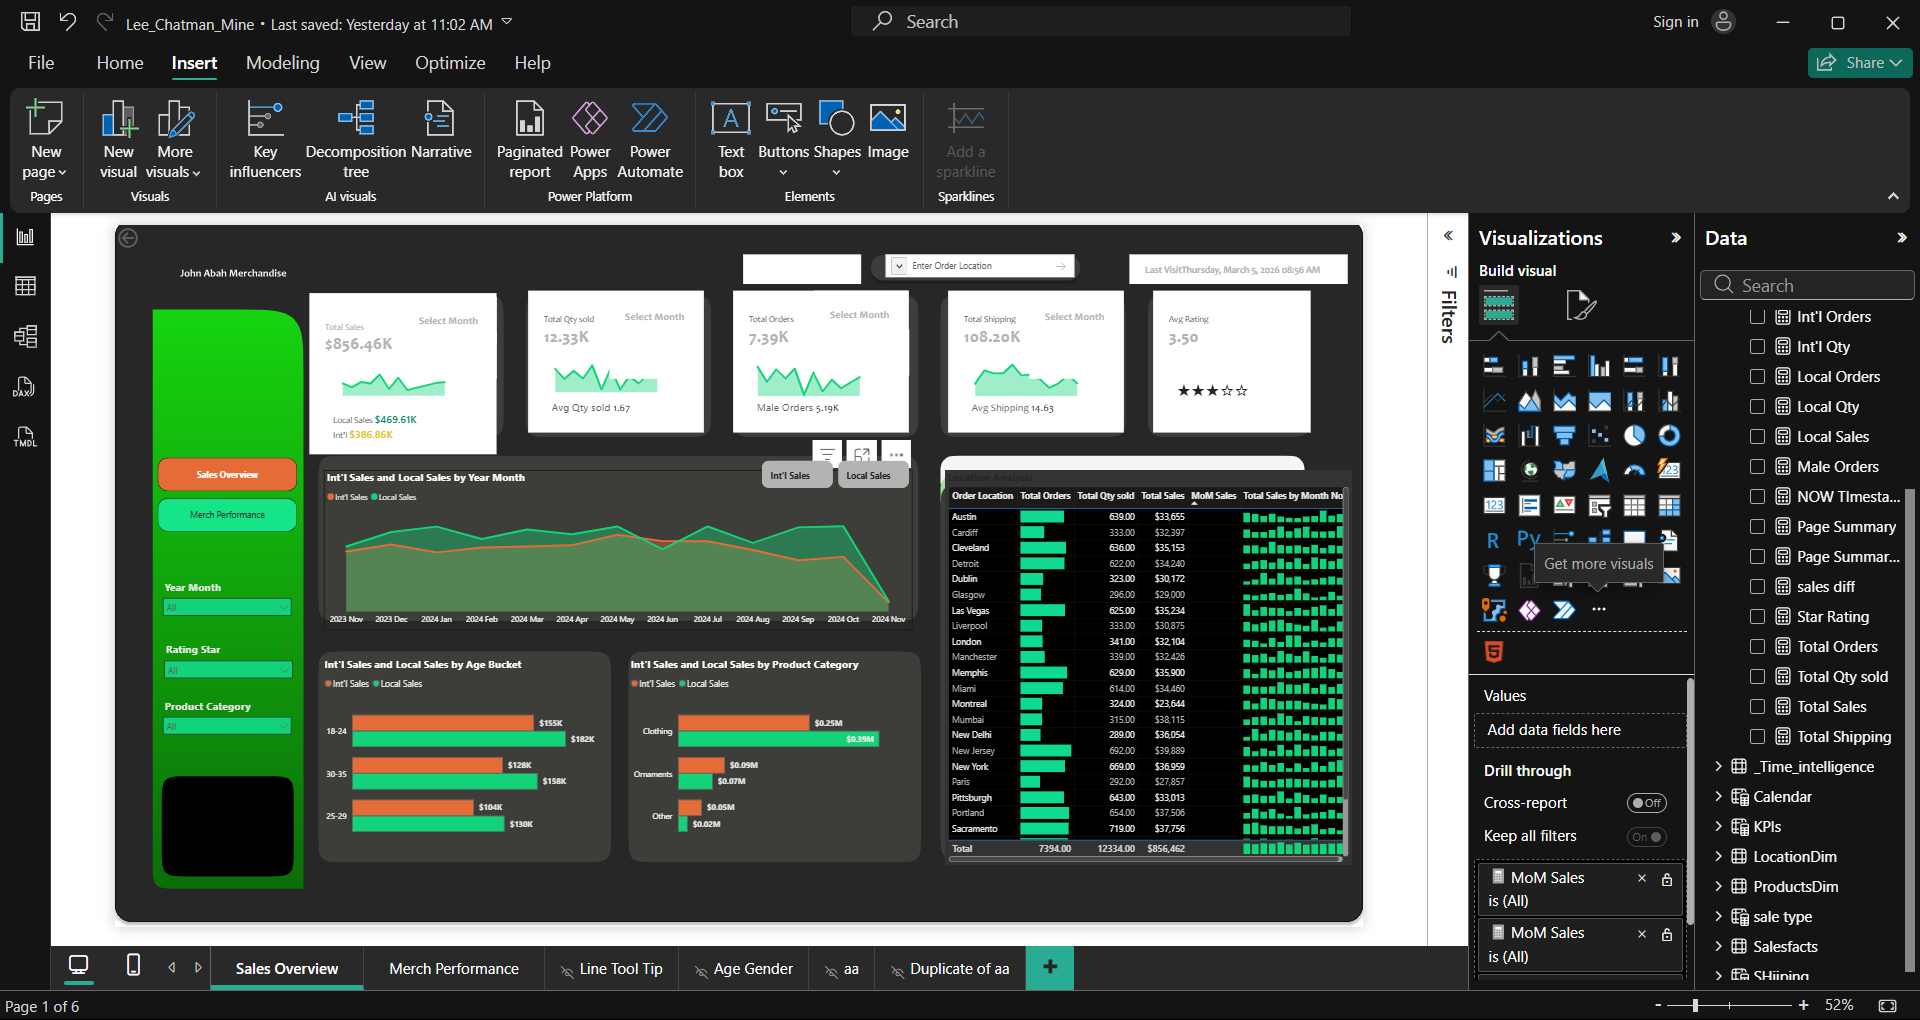

What the dashboard file says about the page in this screenshot:
{"tool":"powerbi","page":{"name":"Sales Overview","canvas":[1920,1080],"ordinal":0},"visuals":[{"type":"areaChart","fields":{"Y":["_Analysis.Int'l","_Analysis.Local Sales"],"Category":["Calendar.Year Month"]},"box":[322,376,904,248],"z":0},{"type":"cardVisual","fields":{"Data":["_Analysis.Total Sales"]},"box":[294,100,298,258],"z":1000},{"type":"cardVisual","fields":{"Data":["_Analysis.Total Qty sold"]},"box":[630,96,280,228],"z":2000},{"type":"cardVisual","fields":{"Data":["_Analysis.Total Orders"]},"box":[946,96,280,228],"z":3000},{"type":"cardVisual","fields":{"Data":["_Analysis.Total Shipping"]},"box":[1276,96,280,228],"z":4000},{"type":"cardVisual","fields":{"Data":["_Analysis.Avg Rating"]},"box":[1592,96,252,228],"z":5000},{"type":"areaChart","fields":{"Category":["Calendar.Month No"],"Y":["_Analysis.Total Sales"]},"box":[322,202,244,66],"z":6000},{"type":"areaChart","fields":{"Category":["Calendar.Month No"],"Y":["_Analysis.Total Qty sold"]},"box":[648,186,244,76],"z":7000},{"type":"areaChart","fields":{"Category":["Calendar.Month No"],"Y":["_Analysis.Total Orders"]},"box":[960,192,244,76],"z":8000},{"type":"areaChart","fields":{"Category":["Calendar.Month No"],"Y":["_Analysis.Total Shipping"]},"box":[1294,192,244,76],"z":9000},{"type":"cardVisual","fields":{"Data":["_Analysis.Dynamic Month Text"]},"box":[438,106,154,80],"z":10000},{"type":"cardVisual","fields":{"Data":["_Analysis.Dynamic Month Text"]},"box":[756,100,154,80],"z":11000},{"type":"cardVisual","fields":{"Data":["_Analysis.Dynamic Month Text"]},"box":[1072,96,154,80],"z":12000},{"type":"cardVisual","fields":{"Data":["_Analysis.Dynamic Month Text"]},"box":[1402,100,154,80],"z":13000},{"type":"cardVisual","fields":{"Data":["_Time_intelligence.MoM Sales"]},"box":[438,162,154,80],"z":14000},{"type":"slicer","title":"Location Analysis","fields":{"Values":["Calendar.Year Month"]},"box":[64,540,218,88],"z":15000},{"type":"cardVisual","fields":{"Data":["_Time_intelligence.MoM Qty sold"]},"box":[756,162,154,80],"z":16000},{"type":"cardVisual","fields":{"Data":["_Time_intelligence.MoM Orders"]},"box":[1074,156,154,80],"z":17000},{"type":"cardVisual","fields":{"Data":["_Time_intelligence.MoM Shipping"]},"box":[1402,162,154,80],"z":18000},{"type":"advancedSlicerVisual","fields":{"Values":["sale type.sale type"]},"box":[990,358,236,52],"z":19000},{"type":"clusteredBarChart","fields":{"Y":["_Analysis.Int'l","_Analysis.Local Sales"],"Category":["Salesfacts.Age Bucket"]},"box":[318,664,438,304],"z":20000},{"type":"clusteredBarChart","fields":{"Y":["_Analysis.Int'l","_Analysis.Local Sales"],"Category":["ProductDim.Product Category"]},"box":[788,664,438,304],"z":21000},{"type":"tableEx","title":"Location Analysis","fields":{"Values":["LocationDim.Order Location","_Analysis.Total Orders","_Analysis.Total Qty sold","_Analysis.Total Sales","_Time_intelligence.MoM Sales","SparklineData(_Analysis.Total Sales_[Calendar.Month No])"]},"box":[1276,376,626,608],"z":22000},{"type":"actionButton","box":[0,0,100,40],"z":23000},{"type":"slicer","title":"Location Analysis","fields":{"Values":["Salesfacts.Rating Star"]},"box":[66,636,218,88],"z":24000},{"type":"slicer","title":"Location Analysis","fields":{"Values":["ProductDim.Product Category"]},"box":[64,724,218,88],"z":25000},{"type":"textSlicer","fields":{"Values":["LocationDim.Order Location"]},"box":[1180,40,300,40],"z":26000},{"type":"cardVisual","fields":{"Data":["_Analysis.NOW TImestamp"]},"box":[1555.2,40.5,346,55.2],"z":27000},{"type":"cardVisual","fields":{"Data":["_Analysis.Blank"]},"box":[960.7,40.5,191.4,55.2],"z":28000},{"type":"pageNavigator","box":[65.4,357.7,215.4,115.4],"z":28001}]}

Visuals, with their boxes on the page's 1920x1080 design canvas (x1, y1, x2, y2). These are canvas units, not pixel positions in the 1920x1020 screenshot, which may show the page scaled, cropped or inside an application window:
areaChart - _Analysis.Int'l x _Analysis.Local Sales: left=322, top=376, right=1226, bottom=624
cardVisual - _Analysis.Total Sales: left=294, top=100, right=592, bottom=358
cardVisual - _Analysis.Total Qty sold: left=630, top=96, right=910, bottom=324
cardVisual - _Analysis.Total Orders: left=946, top=96, right=1226, bottom=324
cardVisual - _Analysis.Total Shipping: left=1276, top=96, right=1556, bottom=324
cardVisual - _Analysis.Avg Rating: left=1592, top=96, right=1844, bottom=324
areaChart - Calendar.Month No x _Analysis.Total Sales: left=322, top=202, right=566, bottom=268
areaChart - Calendar.Month No x _Analysis.Total Qty sold: left=648, top=186, right=892, bottom=262
areaChart - Calendar.Month No x _Analysis.Total Orders: left=960, top=192, right=1204, bottom=268
areaChart - Calendar.Month No x _Analysis.Total Shipping: left=1294, top=192, right=1538, bottom=268
cardVisual - _Analysis.Dynamic Month Text: left=438, top=106, right=592, bottom=186
cardVisual - _Analysis.Dynamic Month Text: left=756, top=100, right=910, bottom=180
cardVisual - _Analysis.Dynamic Month Text: left=1072, top=96, right=1226, bottom=176
cardVisual - _Analysis.Dynamic Month Text: left=1402, top=100, right=1556, bottom=180
cardVisual - _Time_intelligence.MoM Sales: left=438, top=162, right=592, bottom=242
"Location Analysis" slicer: left=64, top=540, right=282, bottom=628
cardVisual - _Time_intelligence.MoM Qty sold: left=756, top=162, right=910, bottom=242
cardVisual - _Time_intelligence.MoM Orders: left=1074, top=156, right=1228, bottom=236
cardVisual - _Time_intelligence.MoM Shipping: left=1402, top=162, right=1556, bottom=242
advancedSlicerVisual - sale type.sale type: left=990, top=358, right=1226, bottom=410
clusteredBarChart - _Analysis.Int'l x _Analysis.Local Sales: left=318, top=664, right=756, bottom=968
clusteredBarChart - _Analysis.Int'l x _Analysis.Local Sales: left=788, top=664, right=1226, bottom=968
"Location Analysis" tableEx: left=1276, top=376, right=1902, bottom=984
actionButton: left=0, top=0, right=100, bottom=40
"Location Analysis" slicer: left=66, top=636, right=284, bottom=724
"Location Analysis" slicer: left=64, top=724, right=282, bottom=812
textSlicer - LocationDim.Order Location: left=1180, top=40, right=1480, bottom=80
cardVisual - _Analysis.NOW TImestamp: left=1555, top=40, right=1901, bottom=96
cardVisual - _Analysis.Blank: left=961, top=40, right=1152, bottom=96
pageNavigator: left=65, top=358, right=281, bottom=473
